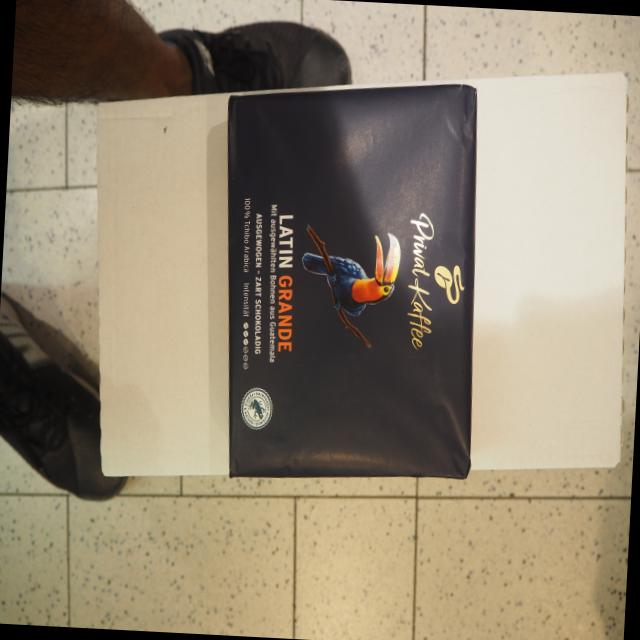LG Gemahlen: (223, 77, 480, 481)
